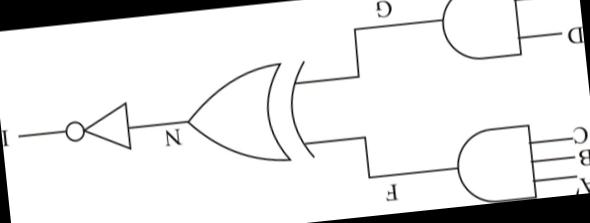and: (446, 116, 552, 207), (429, 0, 529, 67)
not: (58, 93, 140, 160)
xor: (179, 53, 323, 177)
